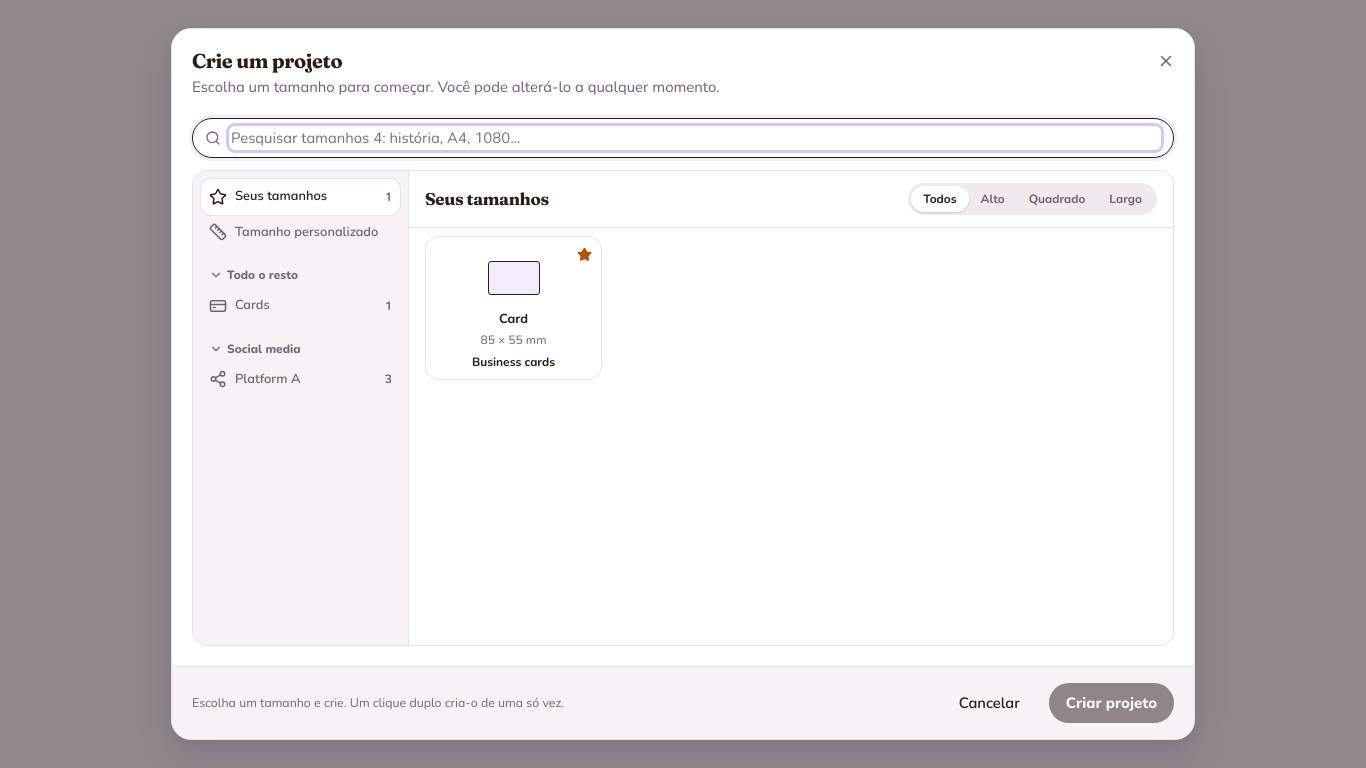
Test case: Create a design dialog › says so when your sizes are full
The image size is (1366, 768).
Click the button "Platform A 3" at (300, 379), box 201,362 -> 400,397
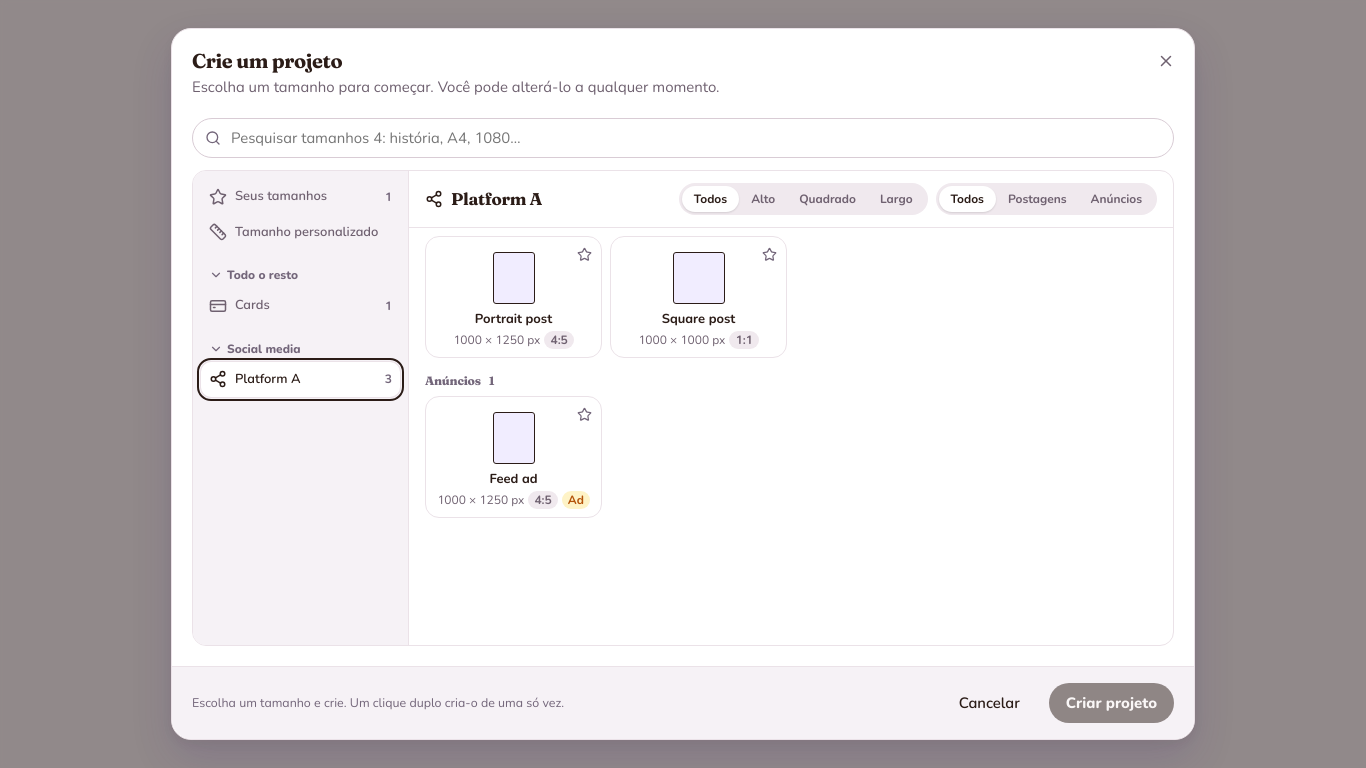
Click the 1st button named "Adicione aos seus tamanhos" at (584, 254), box 570,240 -> 598,268
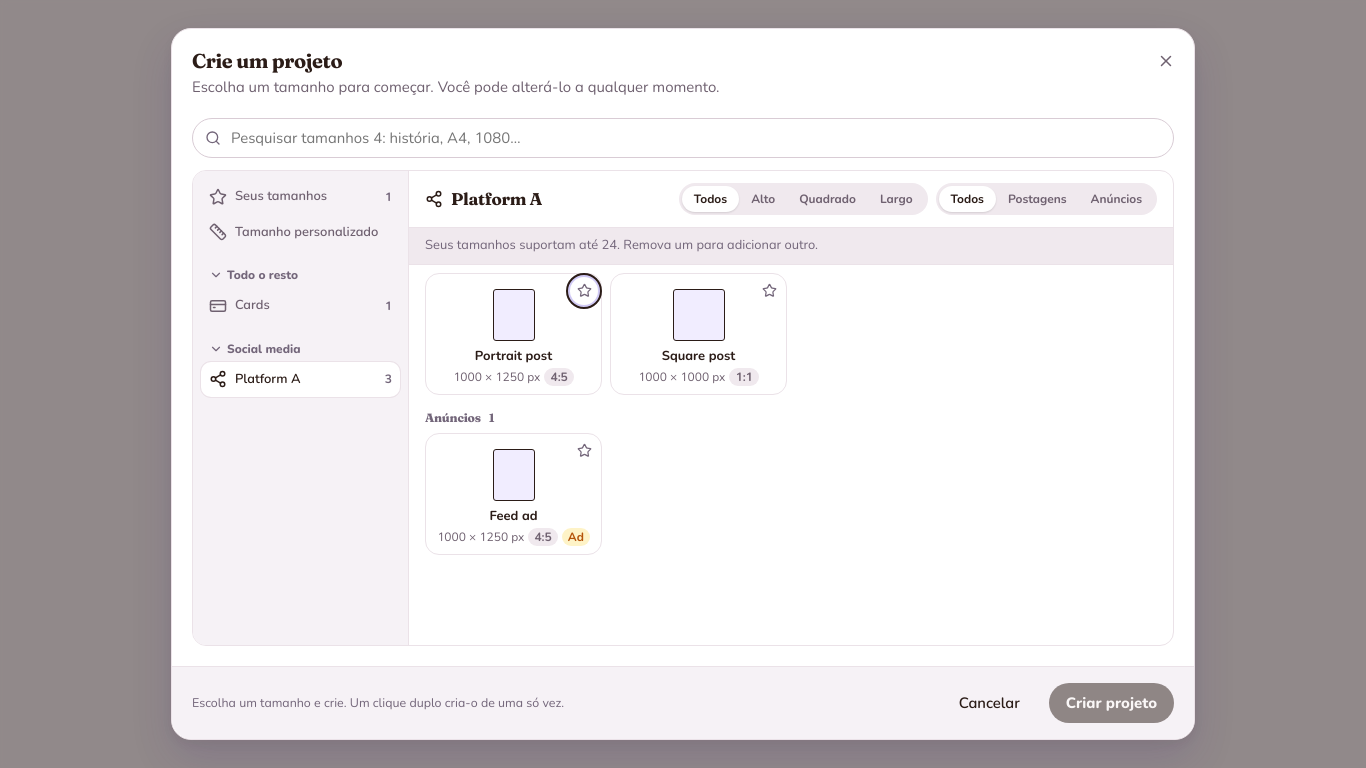
Expected: the message reads "Seus tamanhos suportam até 24. Remova um para adicionar outro.", 409,228 -> 1173,265
